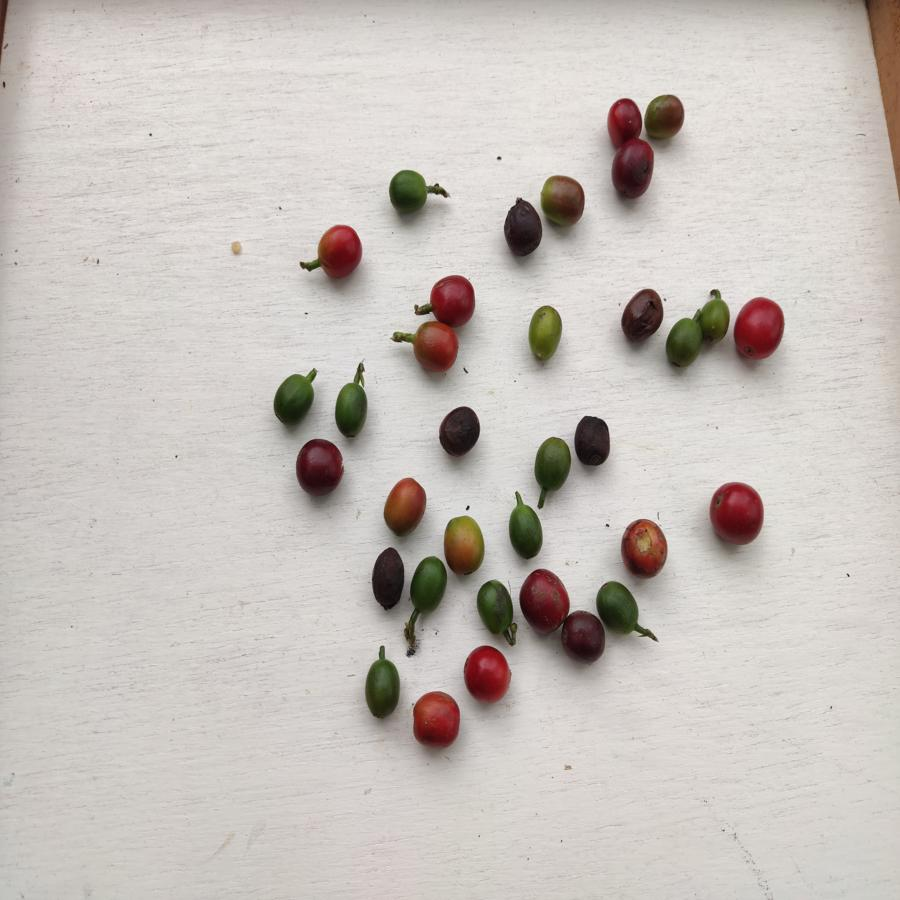Inmaduro: (362, 657, 402, 723), (273, 372, 317, 429), (507, 502, 547, 561), (526, 304, 565, 363), (475, 578, 515, 635), (598, 578, 641, 630), (387, 166, 427, 218), (410, 556, 447, 612), (532, 435, 571, 488), (335, 382, 370, 437), (667, 318, 703, 368), (699, 290, 729, 347)
Maduro: (708, 478, 765, 545), (732, 294, 783, 362), (461, 644, 516, 704), (409, 691, 464, 751), (313, 224, 367, 281), (428, 274, 477, 323)
Pinton: (621, 521, 672, 575), (539, 171, 587, 228), (443, 515, 485, 577), (384, 478, 426, 538), (413, 322, 458, 375), (644, 96, 687, 142)
Sobremaduro: (519, 564, 569, 633), (294, 436, 348, 498), (559, 606, 606, 666), (618, 289, 664, 347), (502, 198, 544, 258), (612, 143, 653, 202), (370, 546, 405, 613), (573, 414, 612, 469), (437, 407, 481, 455), (606, 98, 643, 148)
